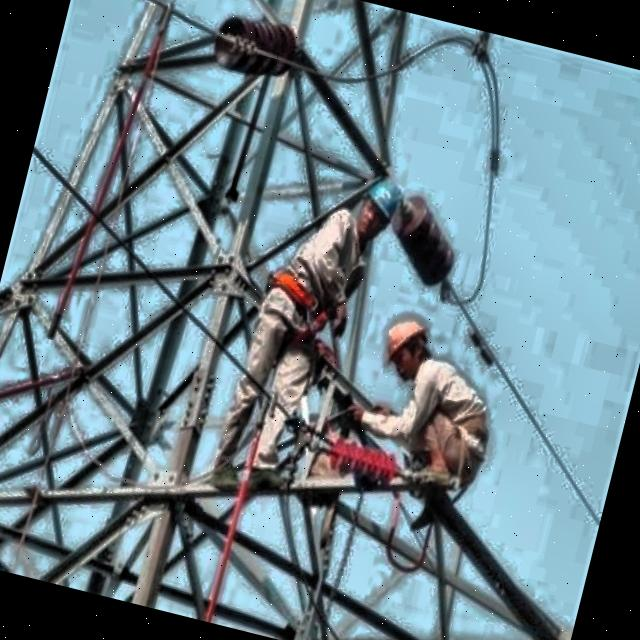helmet: (348, 163, 417, 250), (372, 307, 440, 388)
